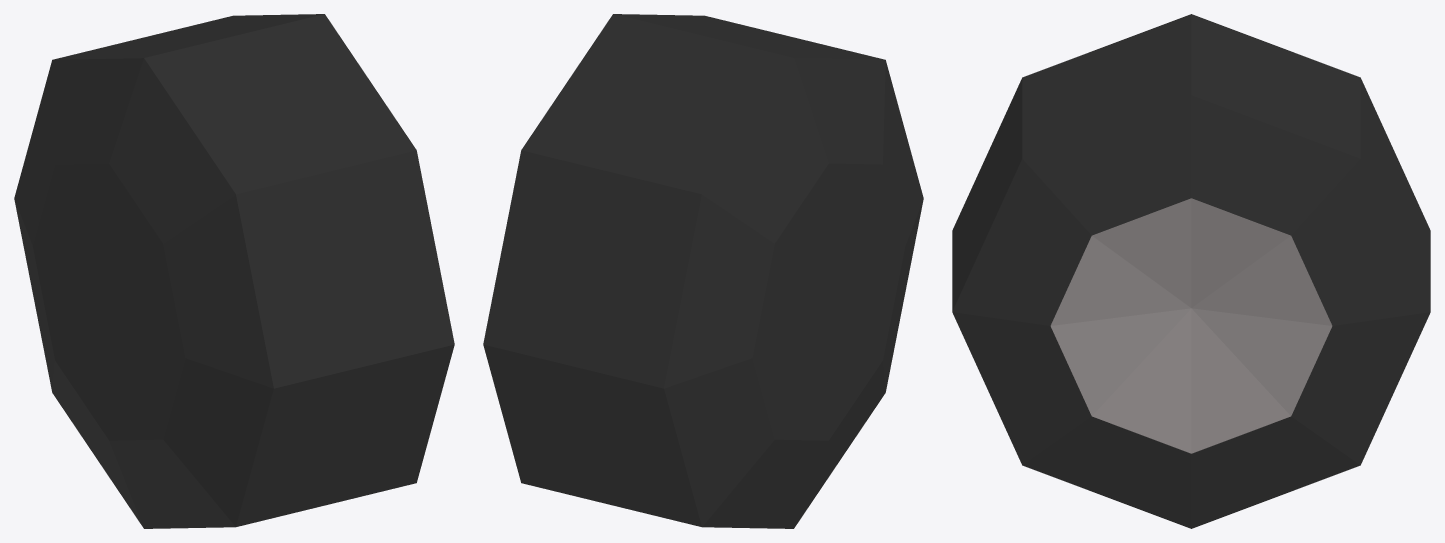
The model's file is lawn-mower-ride_FL.glb.
3 views of the same model, side by side, from view 1: azimuth 30°, elevation 25°; view 2: azimuth 150°, elevation 25°; view 3: azimuth 270°, elevation 25° (orthographic). The views are drawn at different scales.
Parts seen in each view (by area): view 1: lawn-mower-ride_FL; view 2: lawn-mower-ride_FL; view 3: lawn-mower-ride_FL.
Part boxes in pixels (x1=…): lawn-mower-ride_FL: x1=14, y1=14, x2=454, y2=528; lawn-mower-ride_FL: x1=483, y1=14, x2=923, y2=528; lawn-mower-ride_FL: x1=952, y1=14, x2=1430, y2=528.
Bounding box in the file's own units: 0.2642 × 0.4818 × 0.4818.
Materials: 1 (1 with a texture image).
